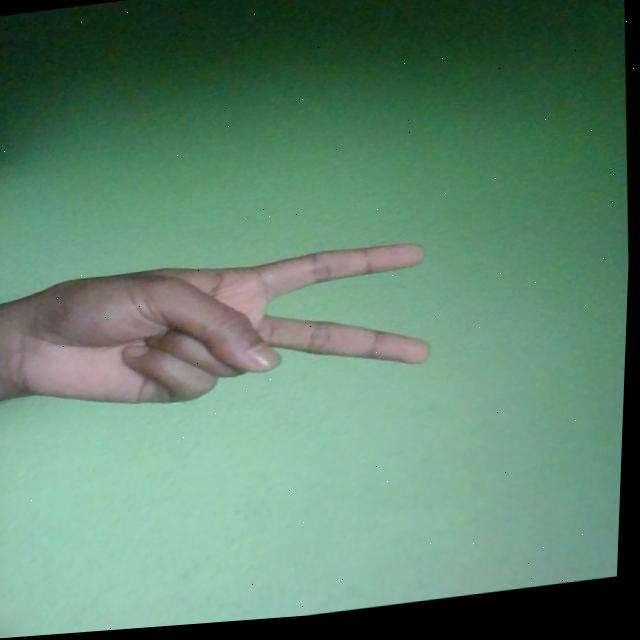Peace: (9, 242, 436, 425)
